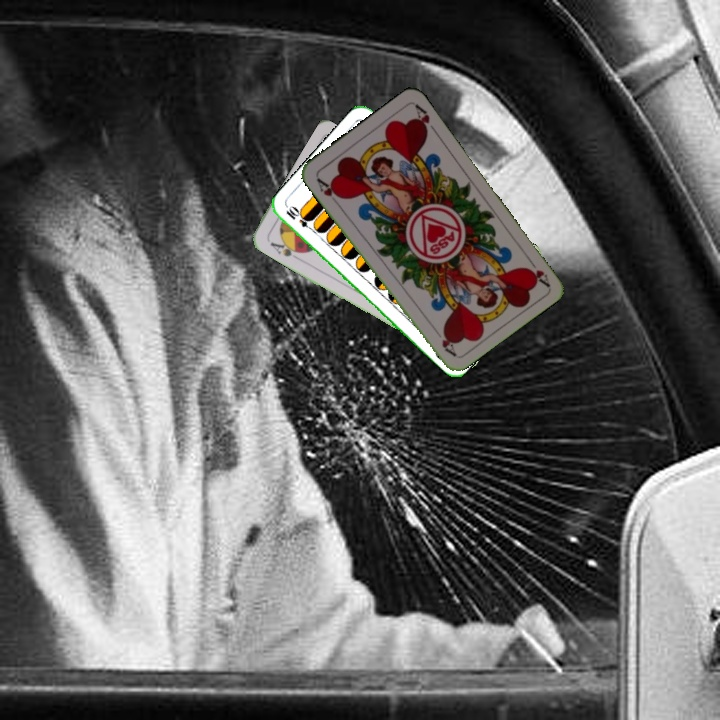E10: (282, 204, 318, 235)
HA: (312, 173, 344, 208), (522, 252, 552, 288)
SA: (266, 236, 304, 262)
